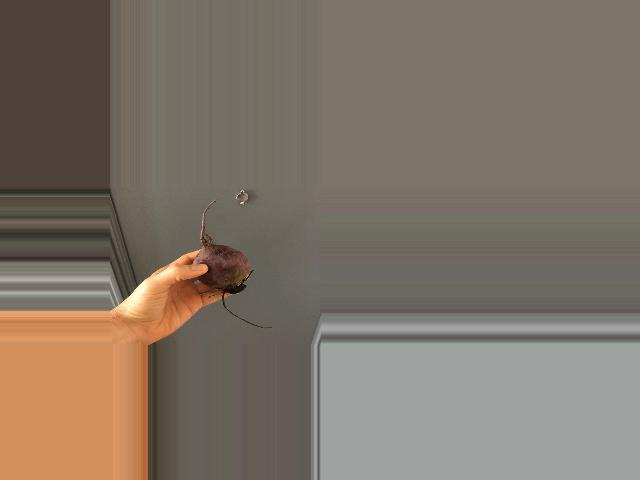beet: (192, 199, 272, 328)
